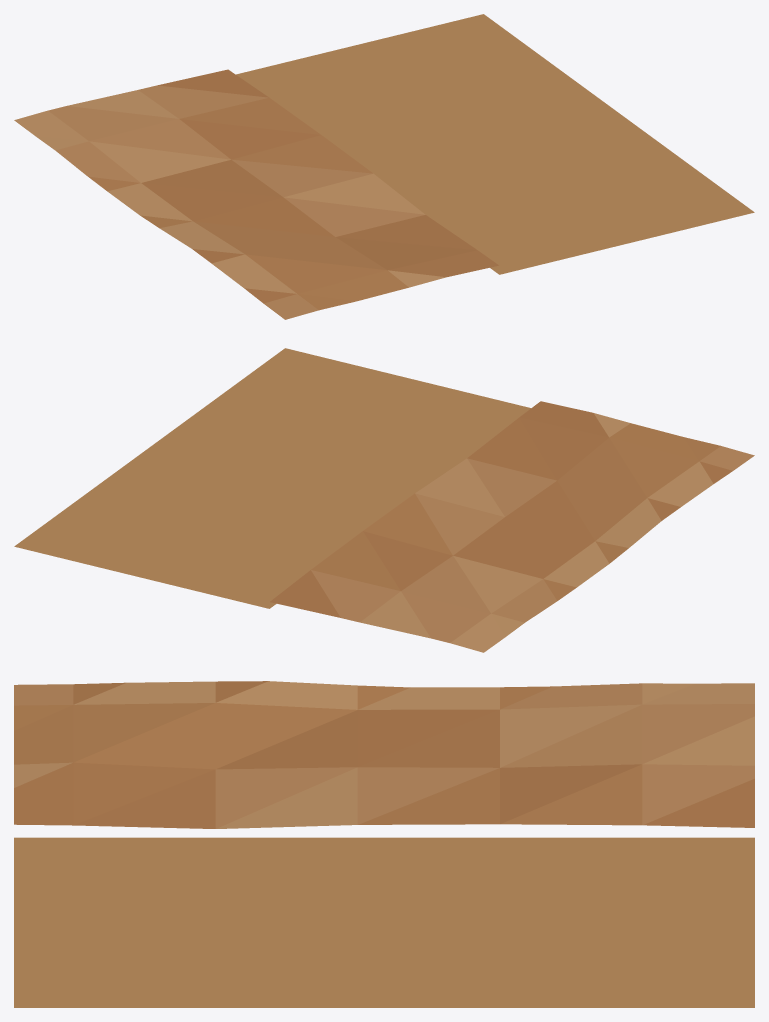
3 renders of one model, top to bottom at view 1: azimuth 30°, elevation 25°; view 2: azimuth 150°, elevation 25°; view 3: azimuth 270°, elevation 25°, orthographic. The views are drawn at different scales.
Parts seen in each view (by area): view 1: baked; view 2: baked; view 3: baked.
Boxes of the visible parts, x1,y1,x2,y2 form: baked: (14,14,754,319); baked: (14,348,754,652); baked: (14,681,754,1007).
Size of the model in its own units: 62.5 by 1.37 by 62.5.
